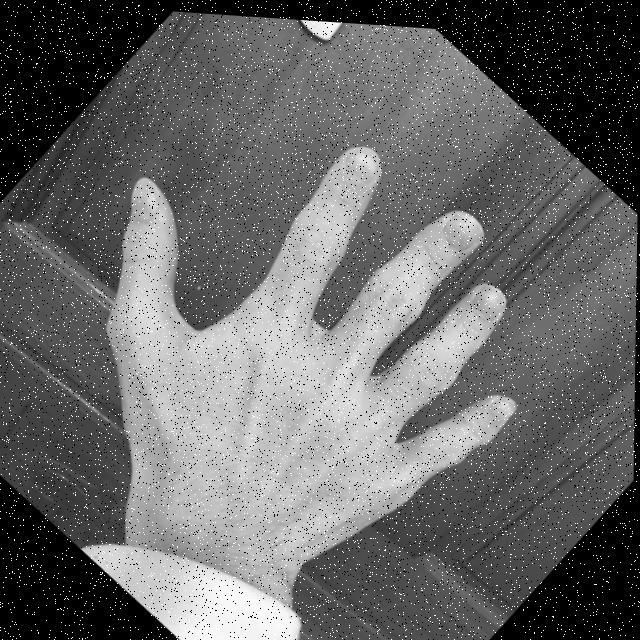no-gloves: (16, 11, 601, 614)
